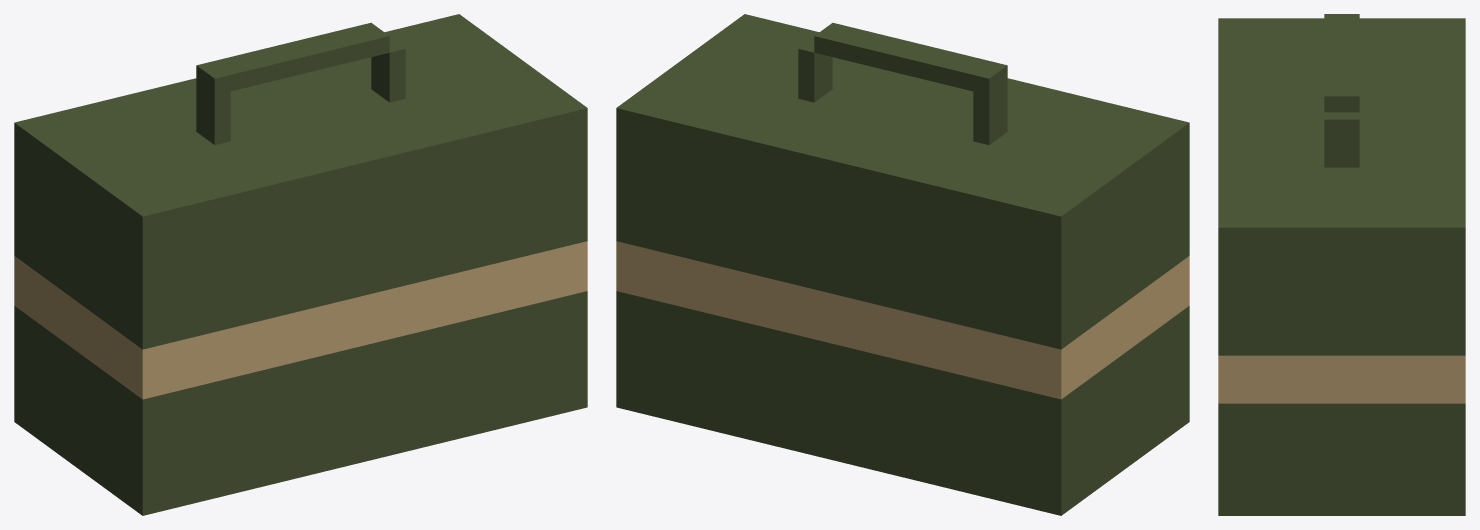
File: ammo_can.glb
3 renders of one model, left to right at view 1: azimuth 30°, elevation 25°; view 2: azimuth 150°, elevation 25°; view 3: azimuth 270°, elevation 25°, orthographic. The views are drawn at different scales.
Visible parts, largest first — view 1: package:carton; view 2: package:carton; view 3: package:carton.
Part boxes in pixels (x1,y1,x2,y2): package:carton: [14, 14, 587, 515]; package:carton: [616, 14, 1189, 515]; package:carton: [1218, 14, 1465, 515].
Bounding box in the file's own units: 0.28 × 0.22 × 0.14.
